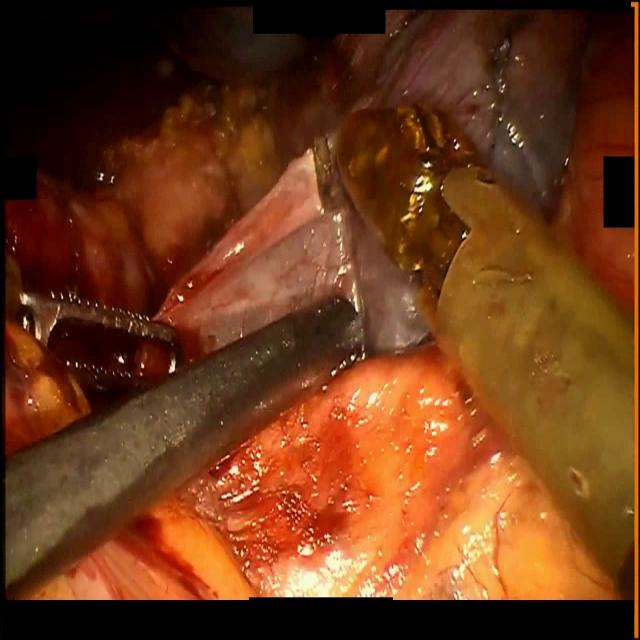surgical-area: (3, 0, 636, 603)
surgical-tool: (324, 115, 636, 601), (3, 289, 372, 603), (18, 284, 179, 387)
